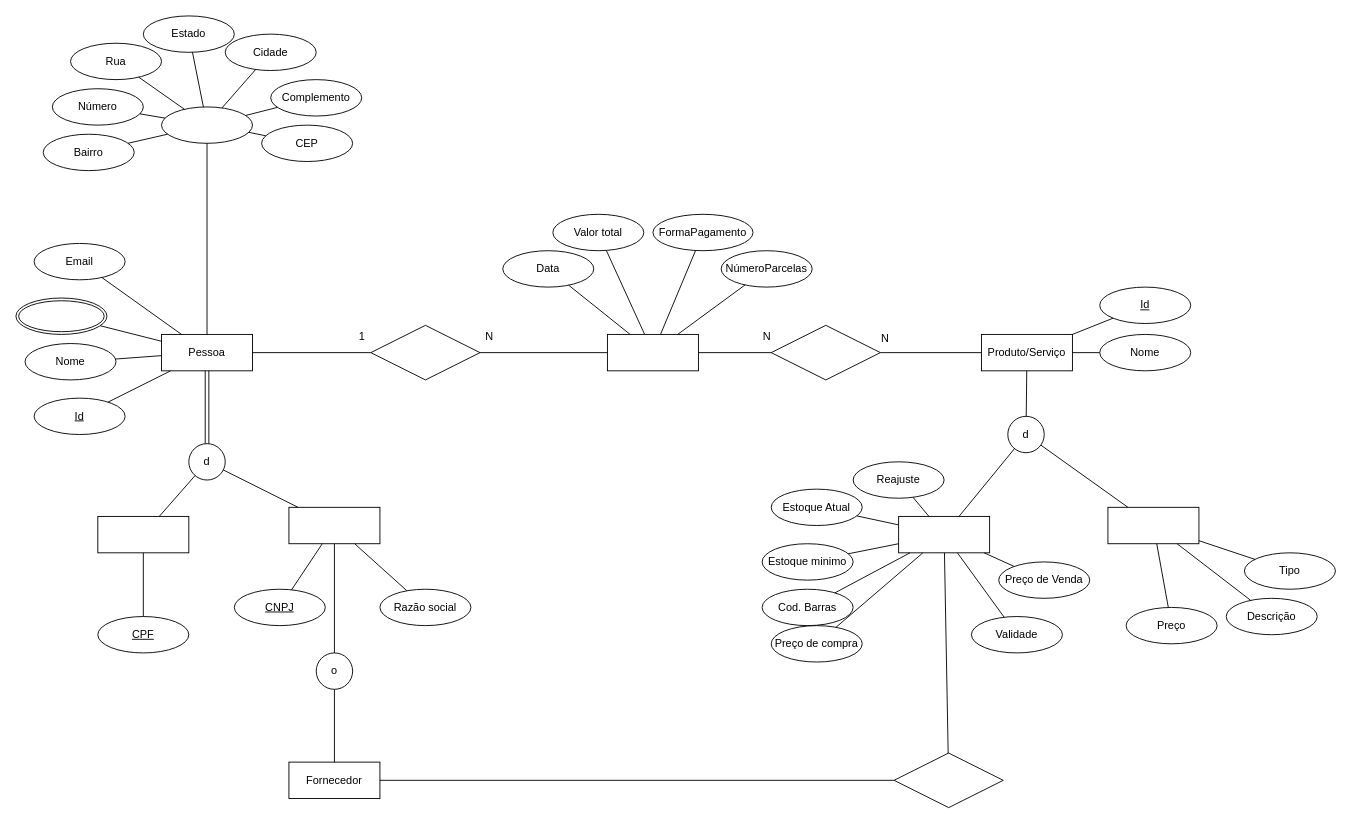
The diagram is 1351 pixels wide and 824 high, and some of its shapes have lost their labels. Each missing label, with the centre of its shape:
Compra: (x=425, y=352)
De: (x=825, y=352)
Endereco: (x=207, y=124)
Fornece: (x=948, y=780)
Pedido: (x=652, y=352)
Pessoa Física: (x=143, y=534)
Pessoa Jurídica: (x=334, y=525)
Produtos: (x=944, y=534)
Serviços: (x=1153, y=525)
Telefone: (x=61, y=315)
